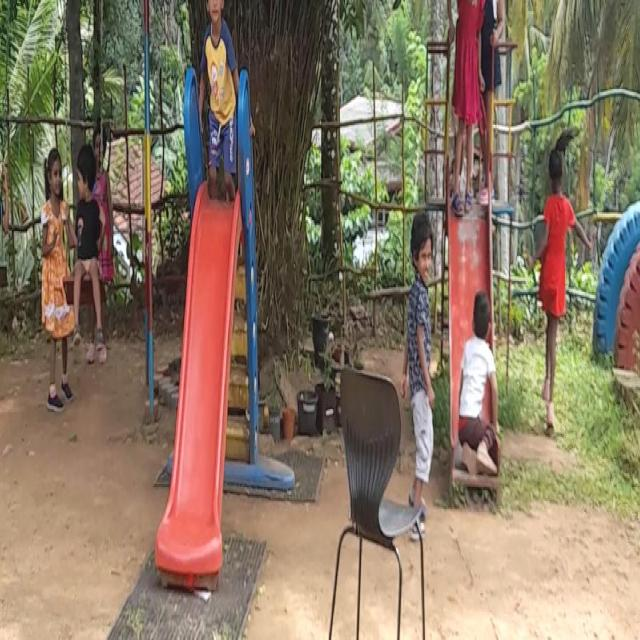child: (537, 132, 595, 442), (194, 0, 256, 195), (401, 213, 433, 536), (37, 150, 72, 412), (456, 289, 498, 482), (447, 0, 481, 217), (70, 141, 105, 345), (472, 0, 506, 203)
